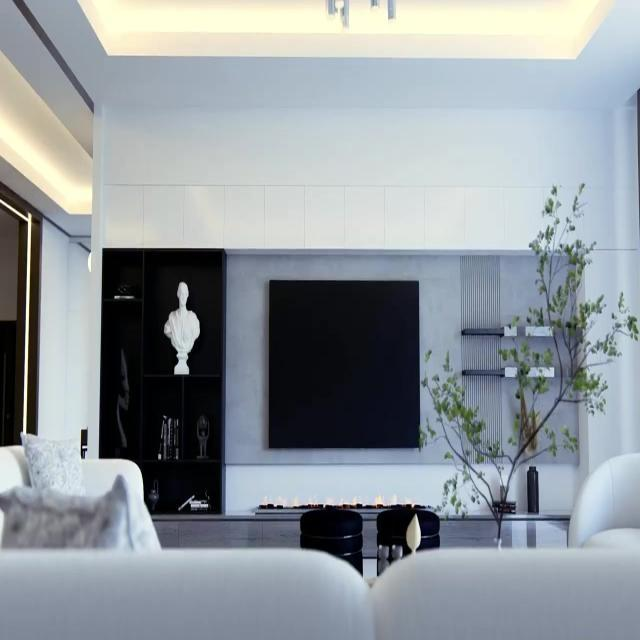obstacle: (1, 444, 640, 638)
